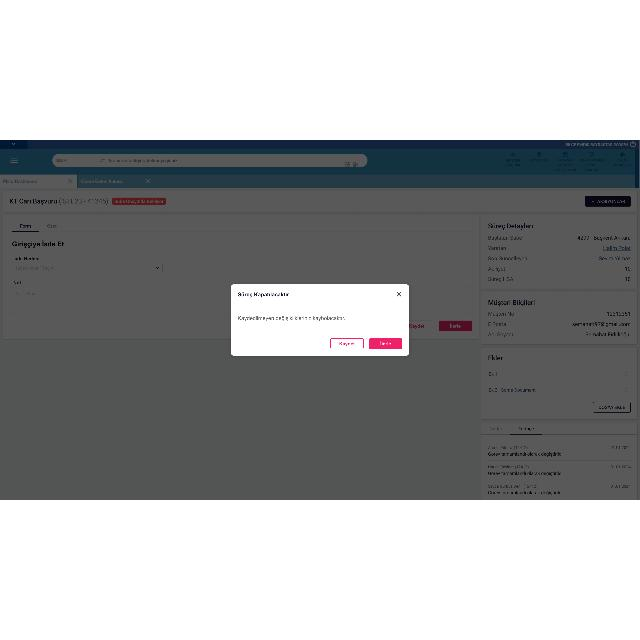QLabel: (237, 315, 345, 321), (237, 292, 289, 298), (339, 342, 355, 346), (379, 342, 391, 346)
VBtn: (369, 338, 403, 350), (330, 338, 364, 349)
VDialog: (231, 284, 409, 356)
VIcon: (396, 292, 402, 298)
